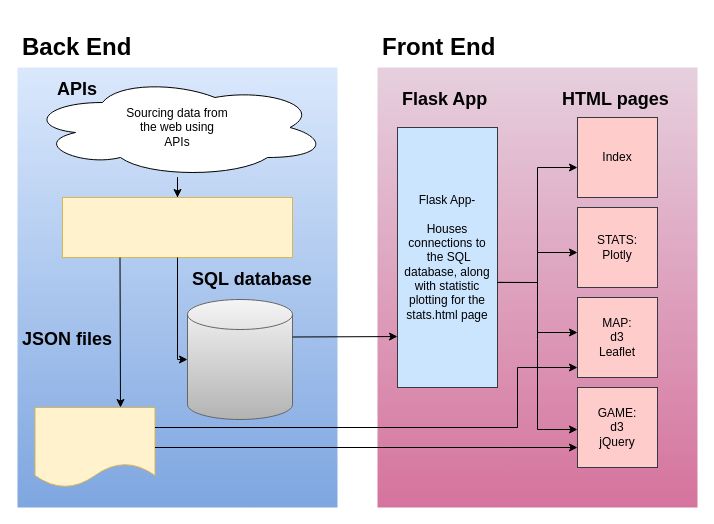
Image size: 714x524. Some labels were removed from this diagram. Each missing label, with the centre of its shape:
"Prepare and process data using Python in Jupyter Notebooks" goes at pixel 177 227.
"Store jeopardy questions and info for map" goes at pixel 94 447.
"Store tables for visualizations using postgreSQL" goes at pixel 239 359.
